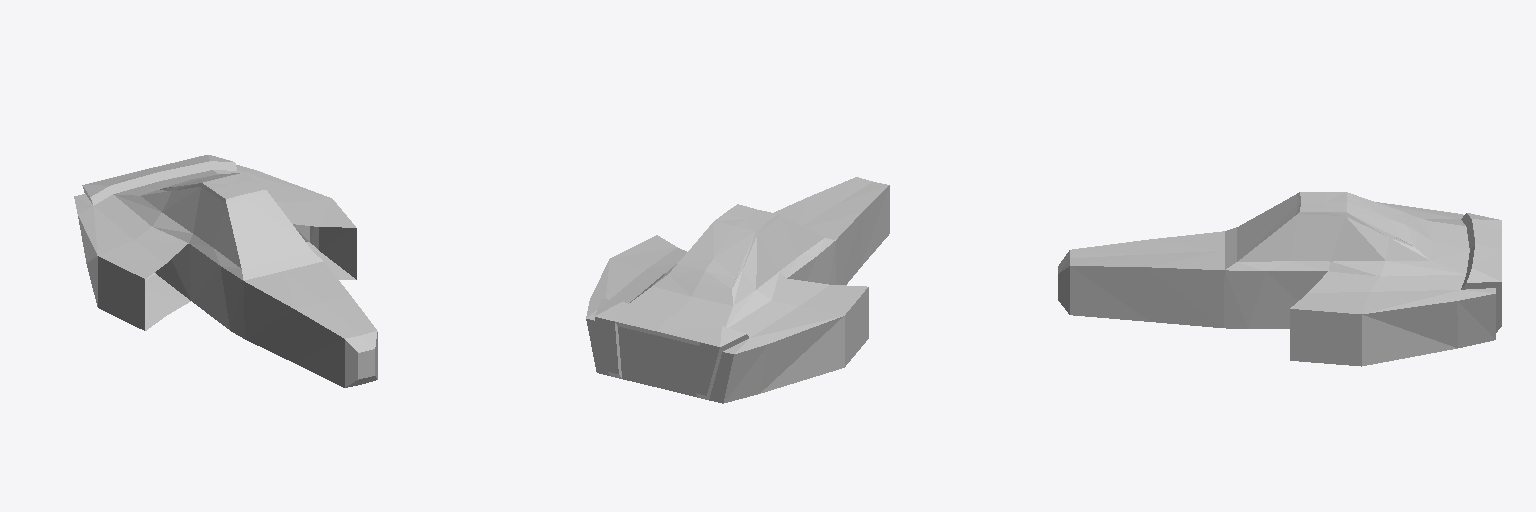
The model's file is viper v3 - texturizado v01.obj.
3 renders of one model, left to right at view 1: azimuth 30°, elevation 25°; view 2: azimuth 150°, elevation 25°; view 3: azimuth 270°, elevation 25°, orthographic.
Parts seen in each view (by area): view 1: carro_Plane; view 2: carro_Plane; view 3: carro_Plane.
Boxes of the visible parts, <box> form: carro_Plane: <box>74,155,377,387</box>; carro_Plane: <box>586,177,889,403</box>; carro_Plane: <box>1058,192,1501,366</box>.
Size of the model in its own units: 2.58 by 1.14 by 4.22.